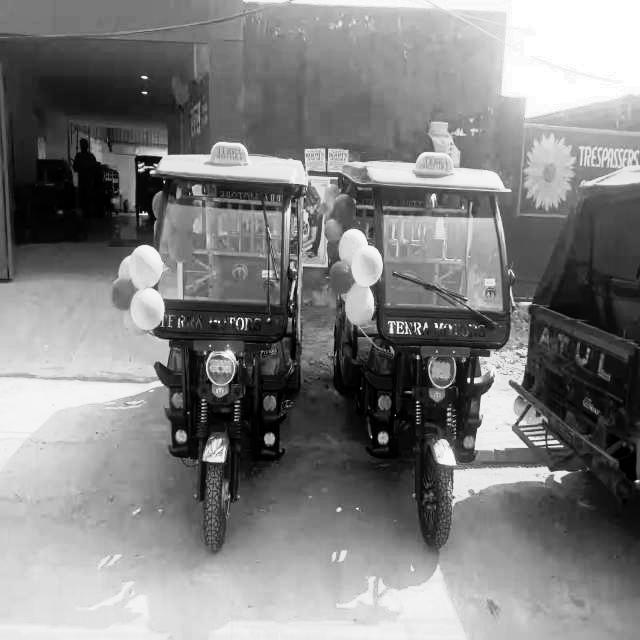Toto: (326, 162, 510, 552), (151, 151, 309, 544)
